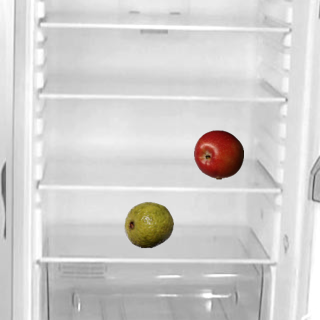Apple Braeburn: (193, 129, 243, 179)
Guava: (123, 199, 173, 249)
